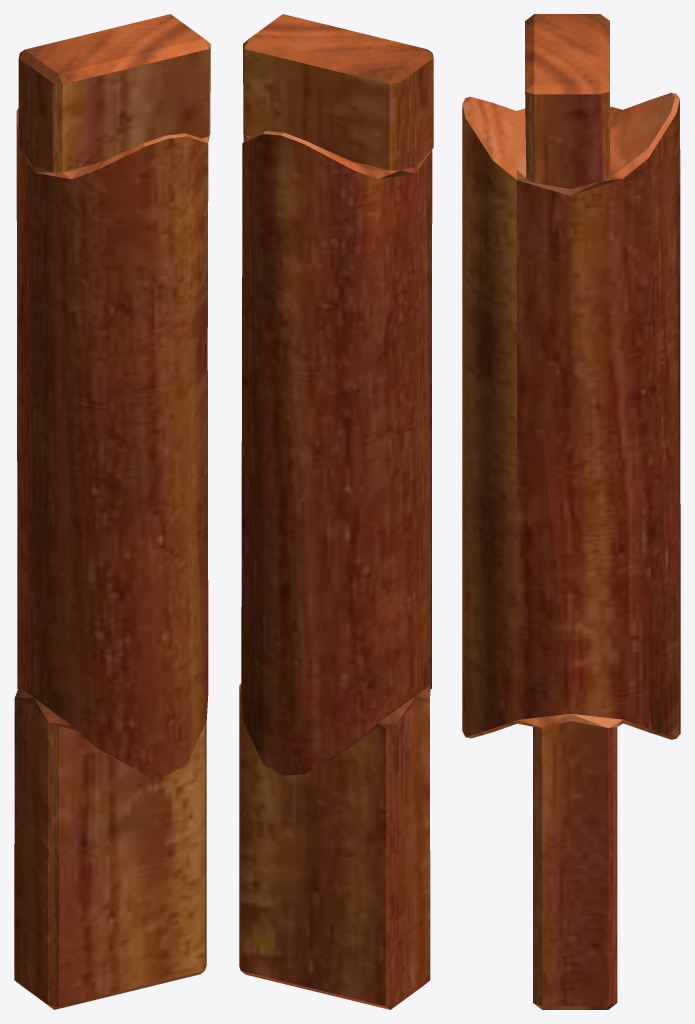
Rendered from SJ_J_shugan_1_009.FBX.
3 views of the same model, side by side, from view 1: azimuth 30°, elevation 25°; view 2: azimuth 150°, elevation 25°; view 3: azimuth 270°, elevation 25° (orthographic).
Parts seen in each view (by area): view 1: SJ_J_shugan_1_009; view 2: SJ_J_shugan_1_009; view 3: SJ_J_shugan_1_009.
Boxes of the visible parts, x1,y1,x2,y2 form: SJ_J_shugan_1_009: (14,14,210,1009); SJ_J_shugan_1_009: (239,14,433,1009); SJ_J_shugan_1_009: (462,14,680,1009).
Bounding box in the file's own units: 1.51 × 8.5 × 1.82.
Materials: 2 (2 with a texture image).
